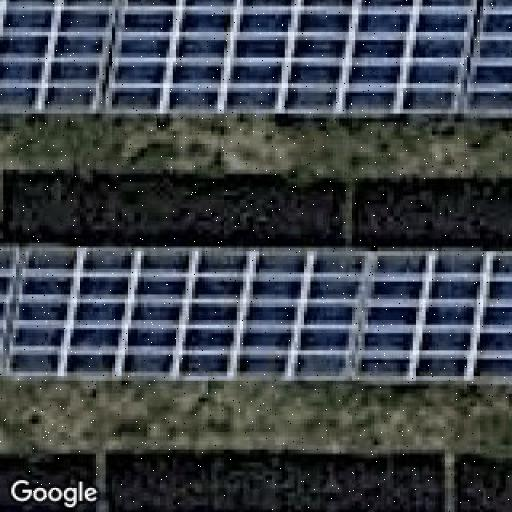solar-panel: (0, 245, 512, 381), (0, 0, 512, 114)
